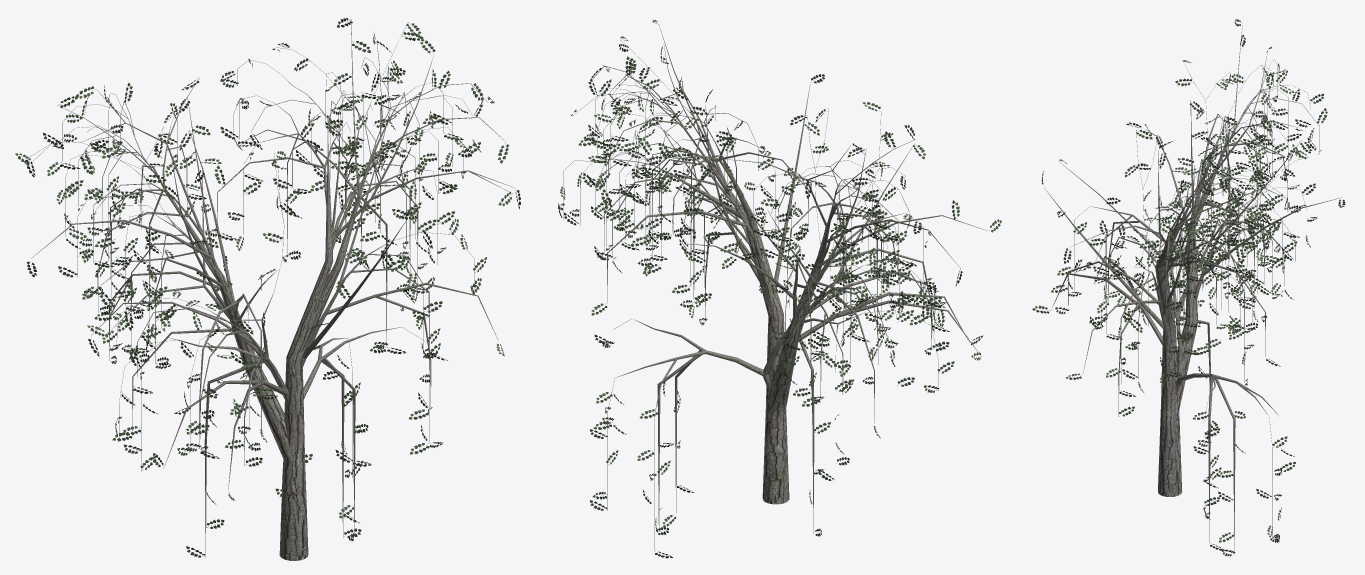
The model's file is willow_baked.glb.
3 views of the same model, side by side, from view 1: azimuth 30°, elevation 25°; view 2: azimuth 150°, elevation 25°; view 3: azimuth 270°, elevation 25° (orthographic). The views are drawn at different scales.
Parts seen in each view (by area): view 1: vegetation_node0, vegetation_node1; view 2: vegetation_node0, vegetation_node1; view 3: vegetation_node0, vegetation_node1.
Part boxes in pixels (box(x1,y1,x2,y2)): vegetation_node0: box(30, 19, 514, 560); vegetation_node1: box(15, 18, 520, 557); vegetation_node0: box(563, 25, 987, 550); vegetation_node1: box(558, 20, 1001, 558); vegetation_node0: box(1044, 23, 1341, 553); vegetation_node1: box(1032, 19, 1345, 556).
Bounding box in the file's own units: 6.35 × 7.23 × 4.74.
2 materials, 2 textured.
